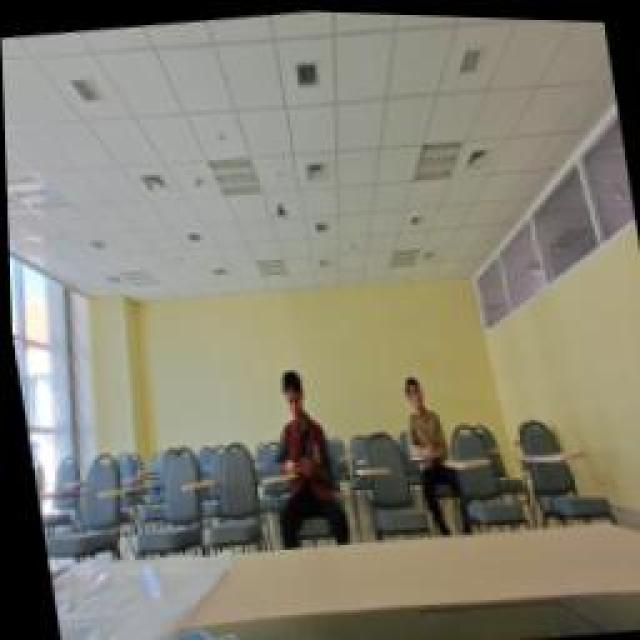phone: (252, 362, 330, 480)
study: (393, 370, 445, 455)
